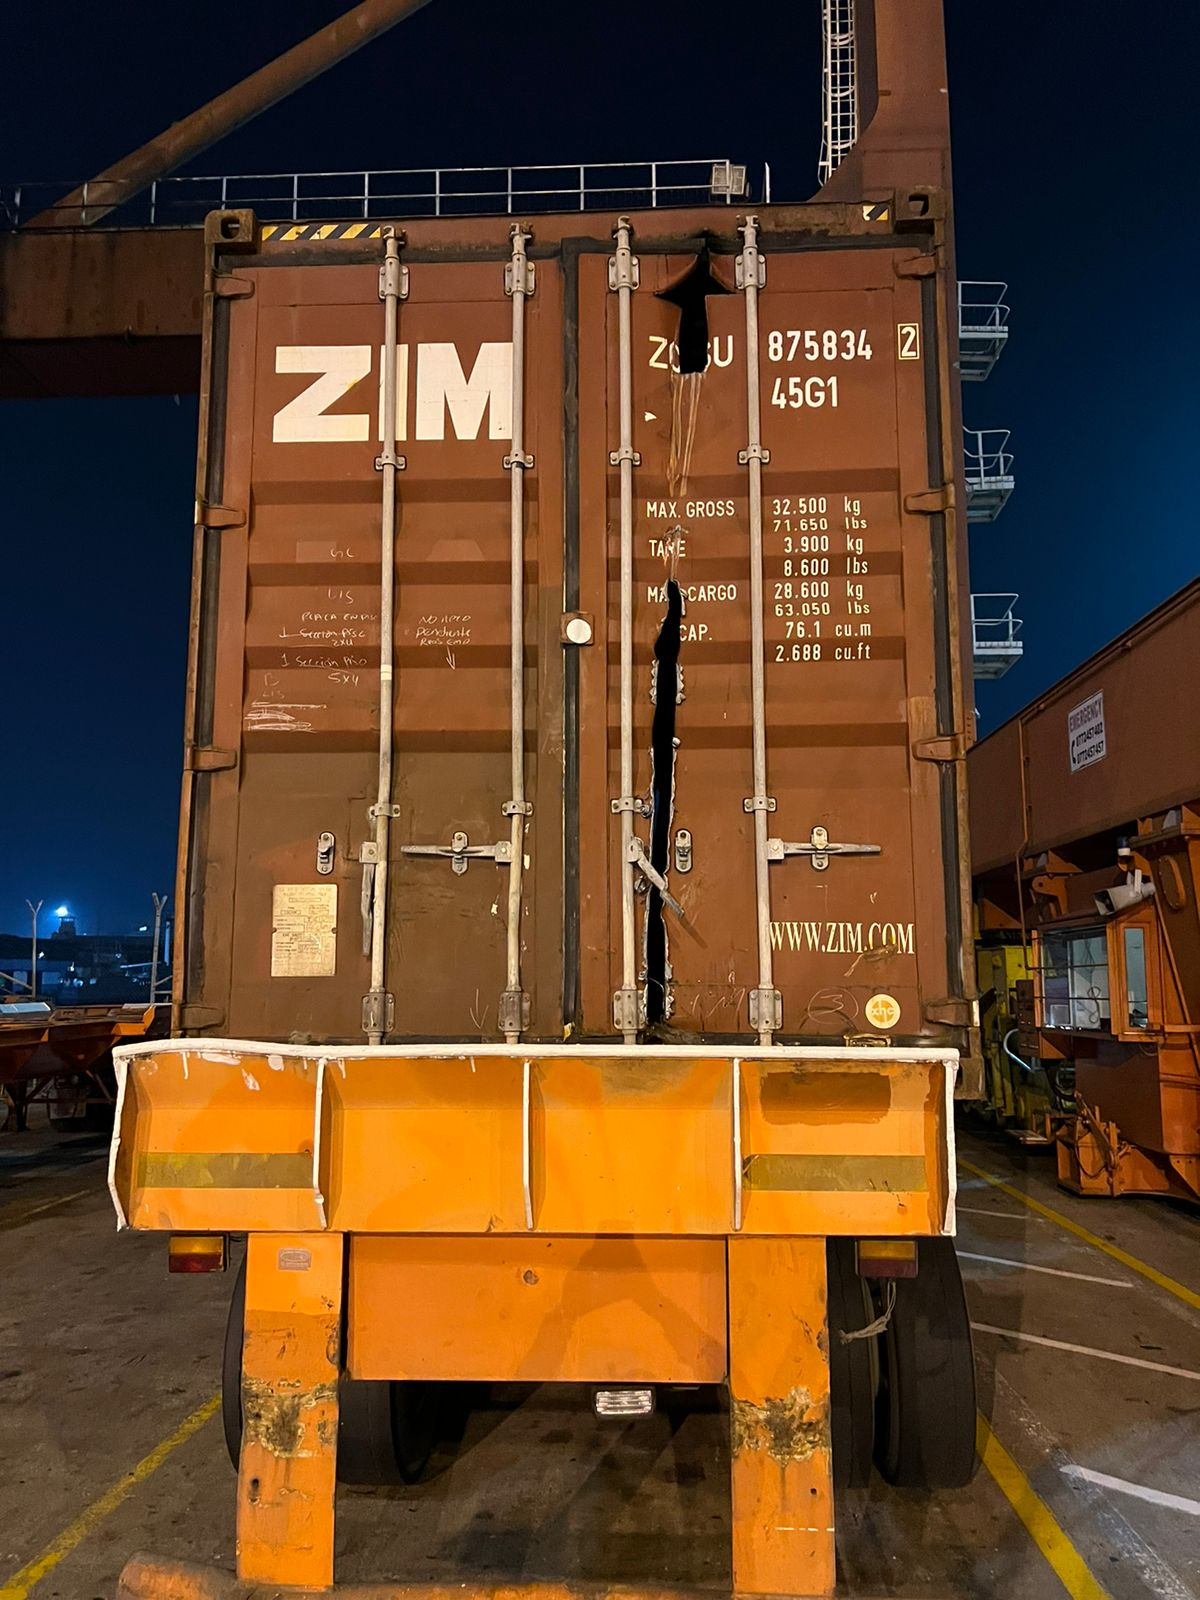cut: (626, 522, 711, 1020), (605, 237, 792, 389)
